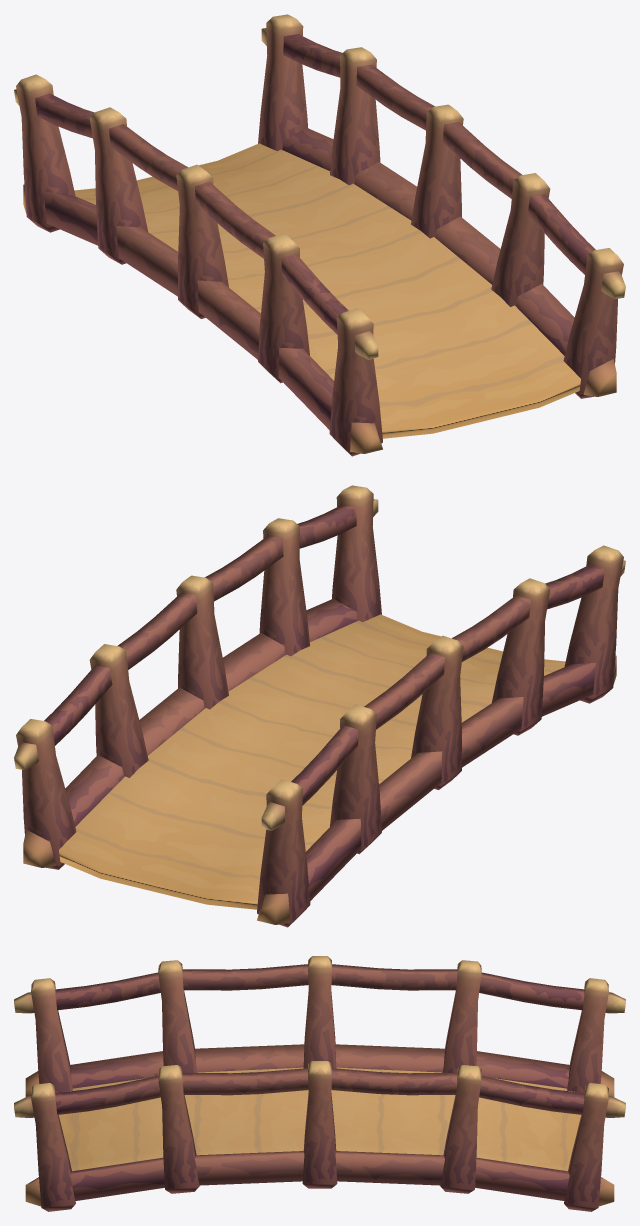
The model's file is BridgeTextured.fbx.
The picture shows the model from 3 angles, top to bottom: view 1: azimuth 30°, elevation 25°; view 2: azimuth 150°, elevation 25°; view 3: azimuth 270°, elevation 25°; orthographic projection. The views are drawn at different scales.
Visible parts, largest first — view 1: BridgeFloor, BottomRail, polySurface8, Rail, polySurface1, Beam2, Beam1, polySurface7, Beam4, Beam, polySurface3, polySurface4 (+3 smaller); view 2: BridgeFloor, BottomRail, polySurface8, polySurface1, Rail, Beam4, Beam3, polySurface4, Beam2, Beam, polySurface6, polySurface7 (+3 smaller); view 3: BridgeFloor, polySurface1, polySurface8, Rail, BottomRail, polySurface4, polySurface7, polySurface3, polySurface6, polySurface5, Beam2, Beam4 (+3 smaller).
Boxes of the visible parts, x1=… form: BridgeFloor: x1=74, y1=143, x2=580, y2=438; BottomRail: x1=23, y1=184, x2=382, y2=453; polySurface8: x1=261, y1=28, x2=625, y2=299; Rail: x1=14, y1=89, x2=378, y2=359; polySurface1: x1=282, y1=127, x2=616, y2=396; Beam2: x1=16, y1=74, x2=75, y2=232; Beam1: x1=89, y1=107, x2=147, y2=264; polySurface7: x1=563, y1=248, x2=623, y2=398; Beam4: x1=329, y1=308, x2=382, y2=456; Beam: x1=176, y1=164, x2=228, y2=318; polySurface3: x1=330, y1=47, x2=380, y2=185; polySurface4: x1=258, y1=14, x2=307, y2=150; BridgeFloor: x1=59, y1=614, x2=565, y2=909; BottomRail: x1=257, y1=655, x2=616, y2=924; polySurface8: x1=14, y1=499, x2=378, y2=770; polySurface1: x1=23, y1=598, x2=357, y2=867; Rail: x1=261, y1=560, x2=625, y2=830; Beam4: x1=564, y1=545, x2=623, y2=703; Beam3: x1=492, y1=578, x2=550, y2=735; polySurface4: x1=16, y1=719, x2=76, y2=869; Beam2: x1=257, y1=779, x2=310, y2=927; Beam: x1=411, y1=635, x2=463, y2=789; polySurface6: x1=259, y1=518, x2=309, y2=656; polySurface7: x1=332, y1=485, x2=381, y2=621; BridgeFloor: x1=58, y1=1067, x2=581, y2=1171; polySurface1: x1=25, y1=1151, x2=614, y2=1206; polySurface8: x1=14, y1=1068, x2=625, y2=1117; Rail: x1=14, y1=964, x2=625, y2=1013; BottomRail: x1=25, y1=1044, x2=614, y2=1096; polySurface4: x1=564, y1=1083, x2=608, y2=1211; polySurface7: x1=31, y1=1083, x2=75, y2=1211; polySurface3: x1=440, y1=1065, x2=481, y2=1193; polySurface6: x1=158, y1=1065, x2=199, y2=1193; polySurface5: x1=302, y1=1061, x2=337, y2=1188; Beam2: x1=567, y1=978, x2=608, y2=1092; Beam4: x1=31, y1=978, x2=72, y2=1092.
Size of the model in its own units: 9.36 by 5.61 by 21.01.
4 materials, 4 textured.
